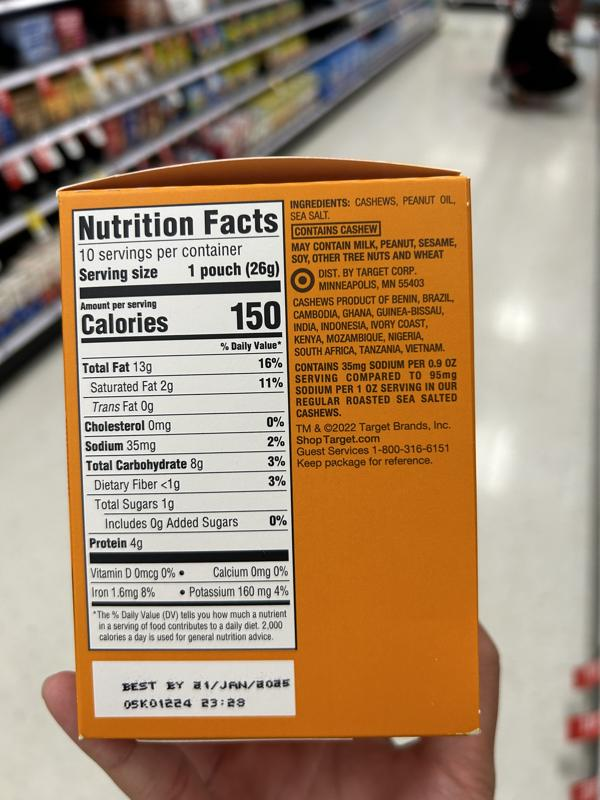ingredients: (289, 194, 455, 222)
